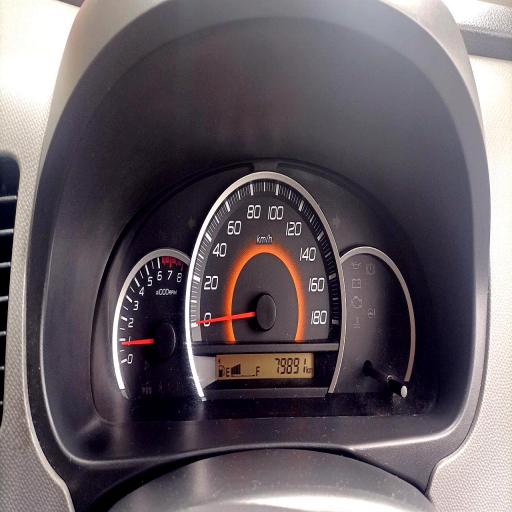tachometer: (111, 248, 191, 398)
